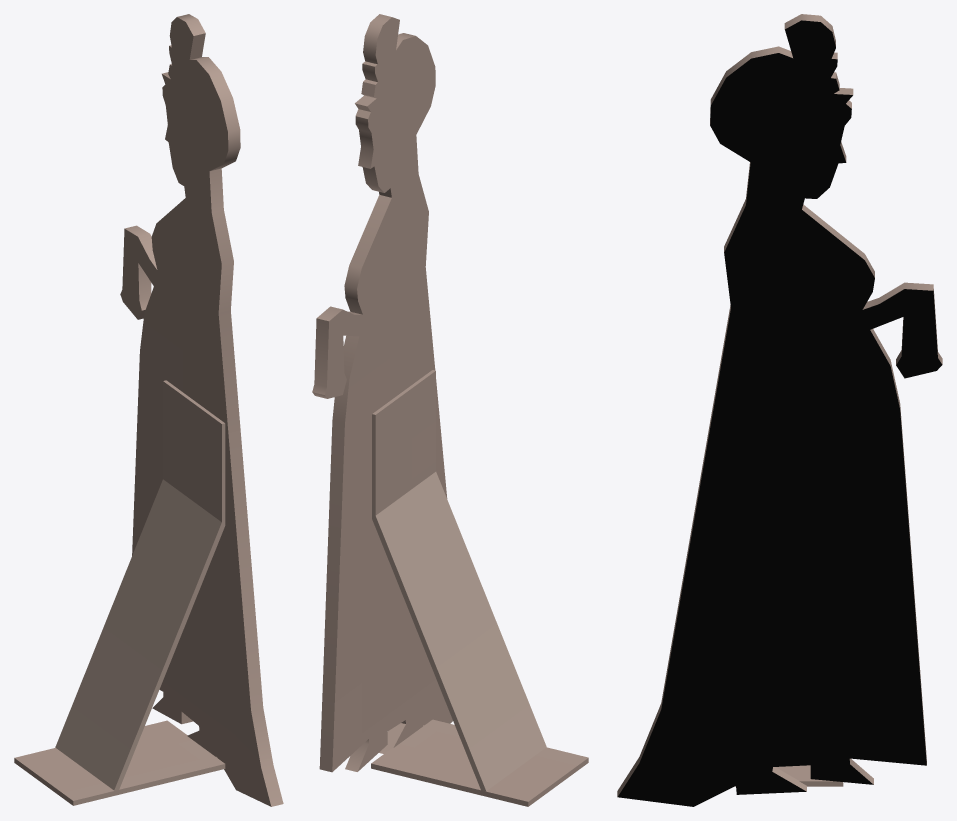
Rendered from Dame 1.FBX.
3 renders of one model, left to right at view 1: azimuth 30°, elevation 25°; view 2: azimuth 150°, elevation 25°; view 3: azimuth 270°, elevation 25°, orthographic. The views are drawn at different scales.
Parts seen in each view (by area): view 1: Dame 1; view 2: Dame 1; view 3: Dame 1.
Boxes of the visible parts, x1=… form: Dame 1: x1=14, y1=14, x2=283, y2=806; Dame 1: x1=312, y1=14, x2=588, y2=806; Dame 1: x1=617, y1=14, x2=942, y2=806.
Size of the model in its own units: 40.25 by 171 by 64.12.
